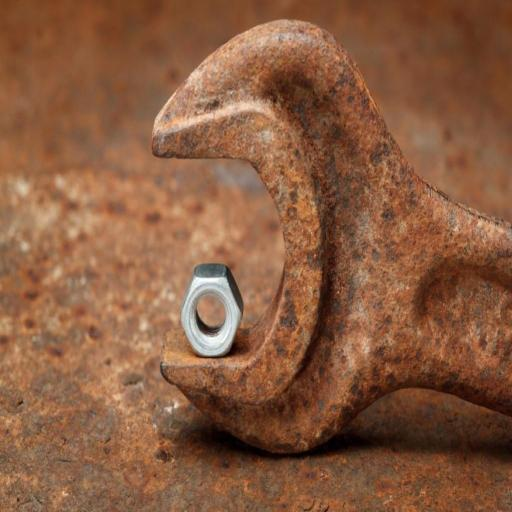segmentation: (153, 20, 512, 451), (2, 331, 509, 509), (151, 0, 508, 223), (1, 1, 176, 360)
